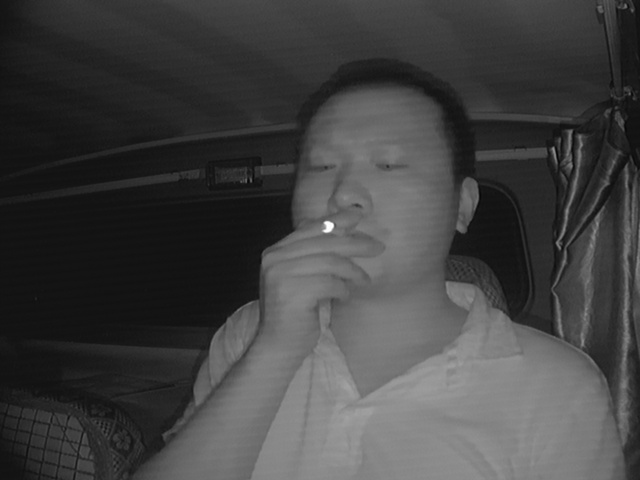hand: (272, 208, 360, 311)
